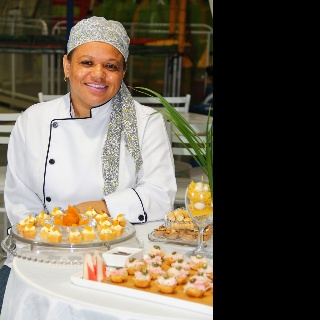without_mask: (69, 41, 122, 105)
